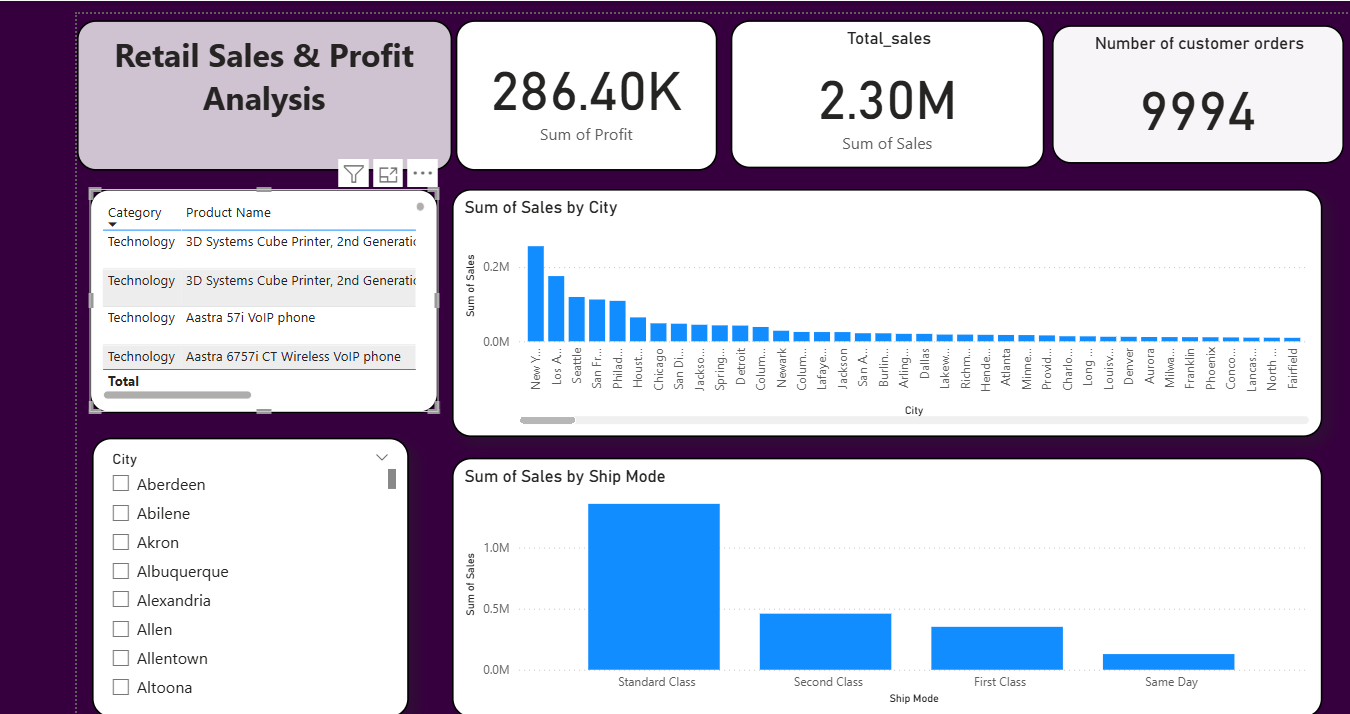

This screenshot's page, from the dashboard's own definition file:
{"tool":"powerbi","page":{"name":"Page 1","canvas":[1280,720],"ordinal":0},"visuals":[{"type":"tableEx","fields":{"Values":["superstore.Category","superstore.Product Name","Sum(superstore.Quantity)","Sum(superstore.Sales)","superstore.Country"]},"box":[15,186.2,348.8,223.8],"z":0},{"type":"slicer","fields":{"Values":["superstore.City"]},"box":[15,423.3,316.7,280],"z":1000},{"type":"card","title":"Total_sales ","fields":{"Values":["Sum(superstore.Sales)"]},"box":[653.8,6.2,312.5,148.8],"z":2000},{"type":"card","fields":{"Values":["Sum(superstore.Profit)"]},"box":[378.3,6.7,261.7,150],"z":3000},{"type":"columnChart","fields":{"Category":["superstore.City"],"Y":["Sum(superstore.Sales)"]},"box":[375,175,870,248.3],"z":4000},{"type":"card","title":"        Number of customer orders","fields":{"Values":["CountNonNull(superstore.Order ID)"]},"box":[975,11.7,291.7,138.3],"z":5000},{"type":"columnChart","fields":{"Category":["superstore.Ship Mode"],"Y":["Sum(superstore.Sales)"]},"box":[375,443.3,870,260],"z":6000},{"type":"textbox","box":[0,6.7,375,150],"z":7000}]}

Visuals, with their boxes in screenshot pixels (x1, y1, x2, y2):
tableEx - superstore.Category x superstore.Product Name: 99 196 440 415
slicer - superstore.City: 99 428 409 702
"Total_sales " card: 723 20 1029 166
card - Sum(superstore.Profit): 454 21 710 167
columnChart - superstore.City x Sum(superstore.Sales): 451 185 1301 428
"        Number of customer orders" card: 1037 25 1323 161
columnChart - superstore.Ship Mode x Sum(superstore.Sales): 451 447 1301 702
textbox: 84 21 451 167
